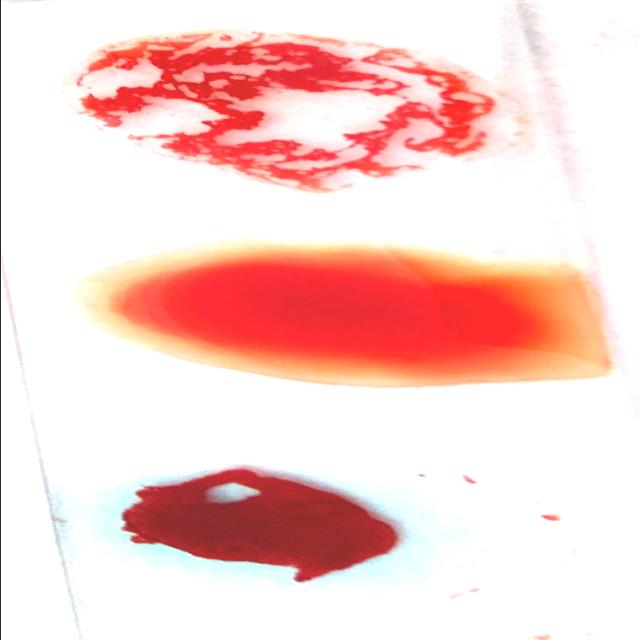A: (49, 460, 529, 595)
D: (79, 36, 533, 182)
